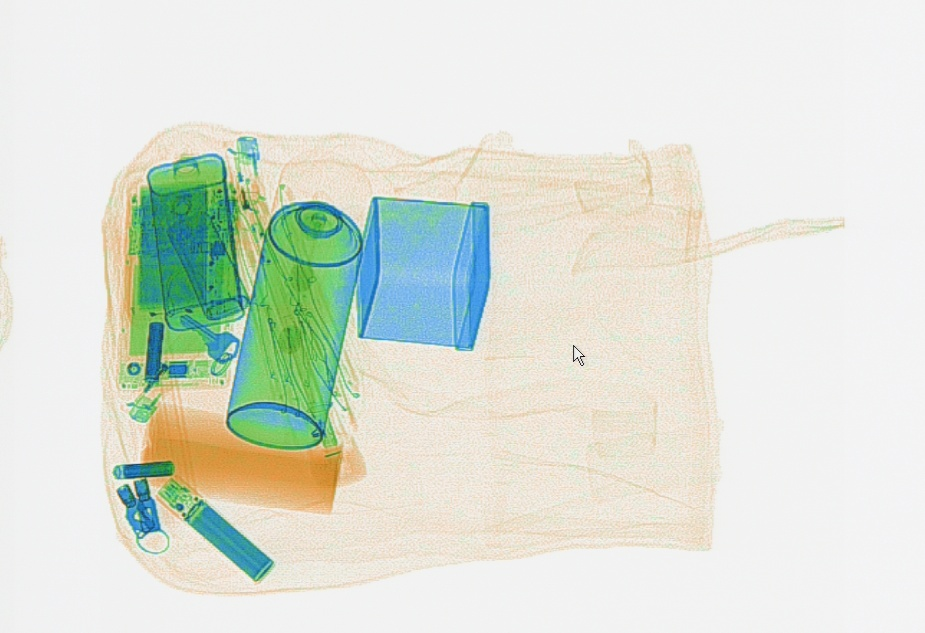lighter: (128, 333, 209, 425), (229, 134, 267, 236)
pressure: (223, 146, 373, 451)
zippooil: (145, 153, 247, 333)
